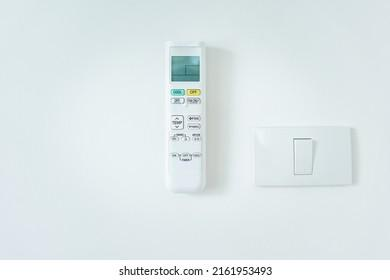Remote control: (164, 41, 208, 195)
